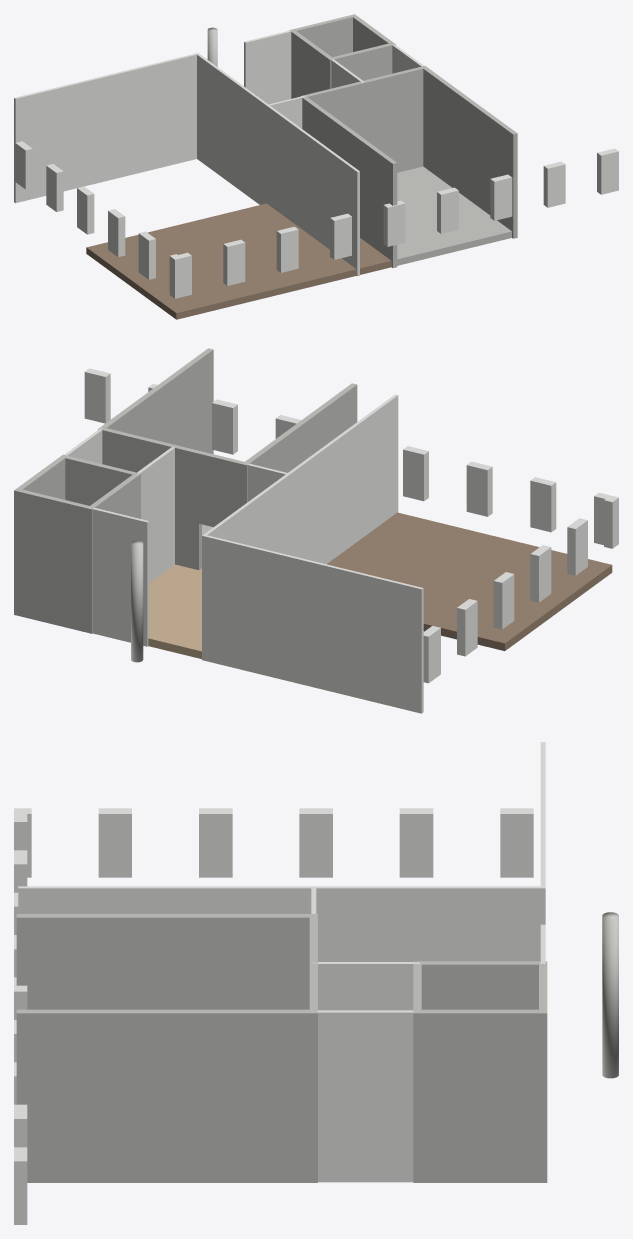
File: SM_Bygg_Helgasetr_P1_V_S.fbx
The picture shows the model from 3 angles, top to bottom: view 1: azimuth 30°, elevation 25°; view 2: azimuth 150°, elevation 25°; view 3: azimuth 270°, elevation 25°; orthographic projection. The views are drawn at different scales.
Parts seen in each view (by area): view 1: SM_Bygg_Helgasetr_P1_V_S; view 2: SM_Bygg_Helgasetr_P1_V_S; view 3: SM_Bygg_Helgasetr_P1_V_S.
Part boxes in pixels (box(x1,y1,x2,y2)): SM_Bygg_Helgasetr_P1_V_S: box(14, 14, 618, 319); SM_Bygg_Helgasetr_P1_V_S: box(14, 348, 618, 713); SM_Bygg_Helgasetr_P1_V_S: box(14, 742, 618, 1224).
Size of the model in its own units: 18.08 by 24.95 by 5.6.
